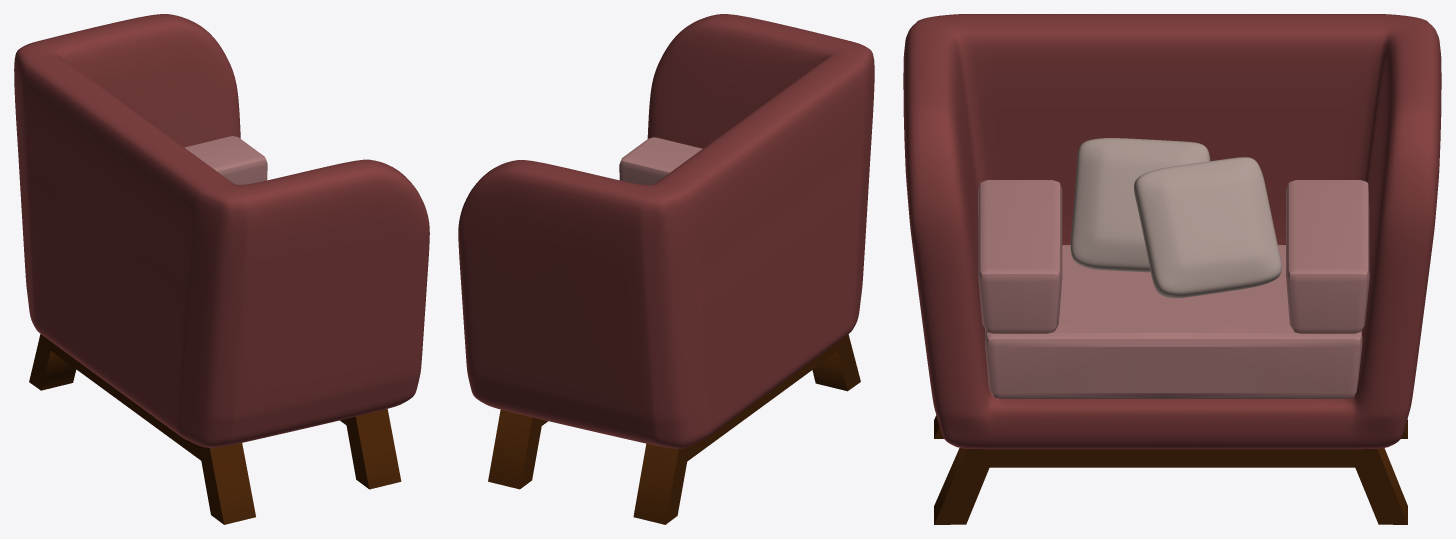
Rendered from Chair1.fbx.
3 renders of one model, left to right at view 1: azimuth 30°, elevation 25°; view 2: azimuth 150°, elevation 25°; view 3: azimuth 270°, elevation 25°, orthographic. The views are drawn at different scales.
Visible parts, largest first — view 1: pCube1, pasted__pCube3, pCube3, pasted__pasted__pCube2; view 2: pCube1, pasted__pCube3, pCube3, pasted__pasted__pCube2; view 3: pCube1, pasted__pasted__pCube2, pasted__pCube4, pCube3.
Boxes of the visible parts, x1,y1,x2,y2 form: pCube1: [14, 14, 429, 447]; pasted__pCube3: [29, 334, 255, 524]; pCube3: [340, 409, 401, 489]; pasted__pasted__pCube2: [184, 136, 267, 184]; pCube1: [458, 14, 874, 448]; pasted__pCube3: [633, 334, 860, 524]; pCube3: [488, 409, 547, 489]; pasted__pasted__pCube2: [619, 137, 702, 185]; pCube1: [903, 14, 1441, 449]; pasted__pasted__pCube2: [978, 180, 1369, 398]; pasted__pCube4: [1070, 138, 1281, 298]; pCube3: [934, 448, 1407, 524].
Bounding box in the file's own units: 5.02 × 7.15 × 8.67.
